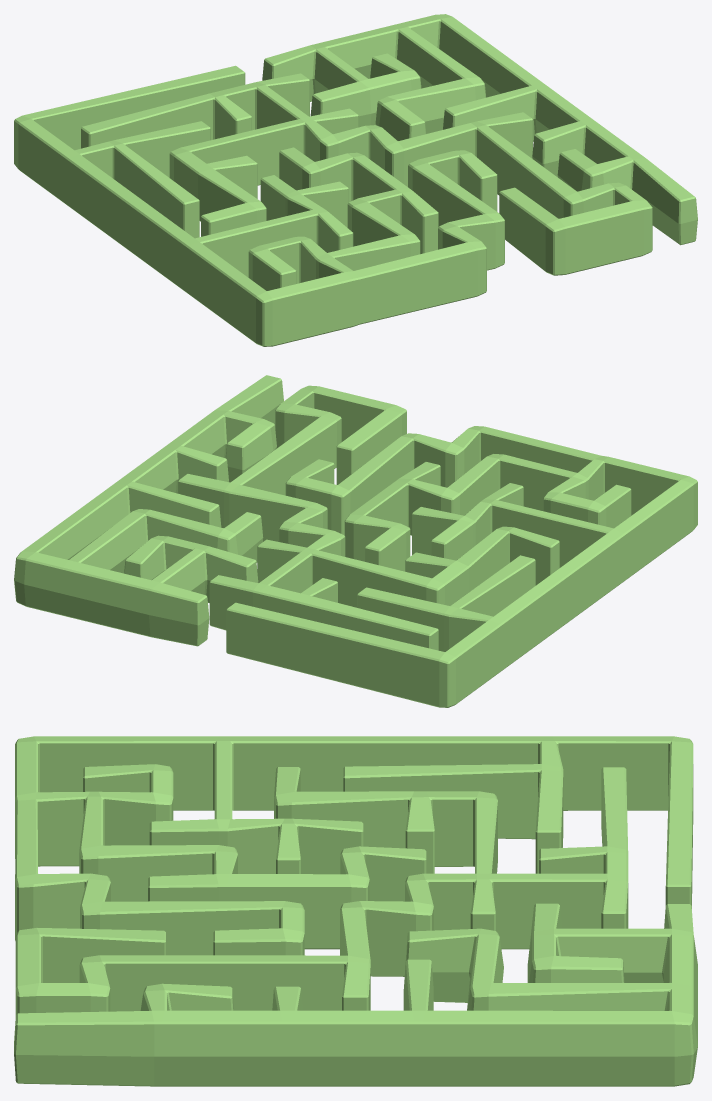
File: BUSHY Maze 2.fbx
3 views of the same model, one above another, from view 1: azimuth 30°, elevation 25°; view 2: azimuth 150°, elevation 25°; view 3: azimuth 270°, elevation 25° (orthographic). The views are drawn at different scales.
Visible parts, largest first — view 1: Cube; view 2: Cube; view 3: Cube.
Part boxes in pixels (bbox=[...]): Cube: bbox=[14, 14, 697, 346]; Cube: bbox=[14, 375, 697, 707]; Cube: bbox=[14, 736, 697, 1086].
Bounding box in the file's own units: 439 × 49.82 × 440.
